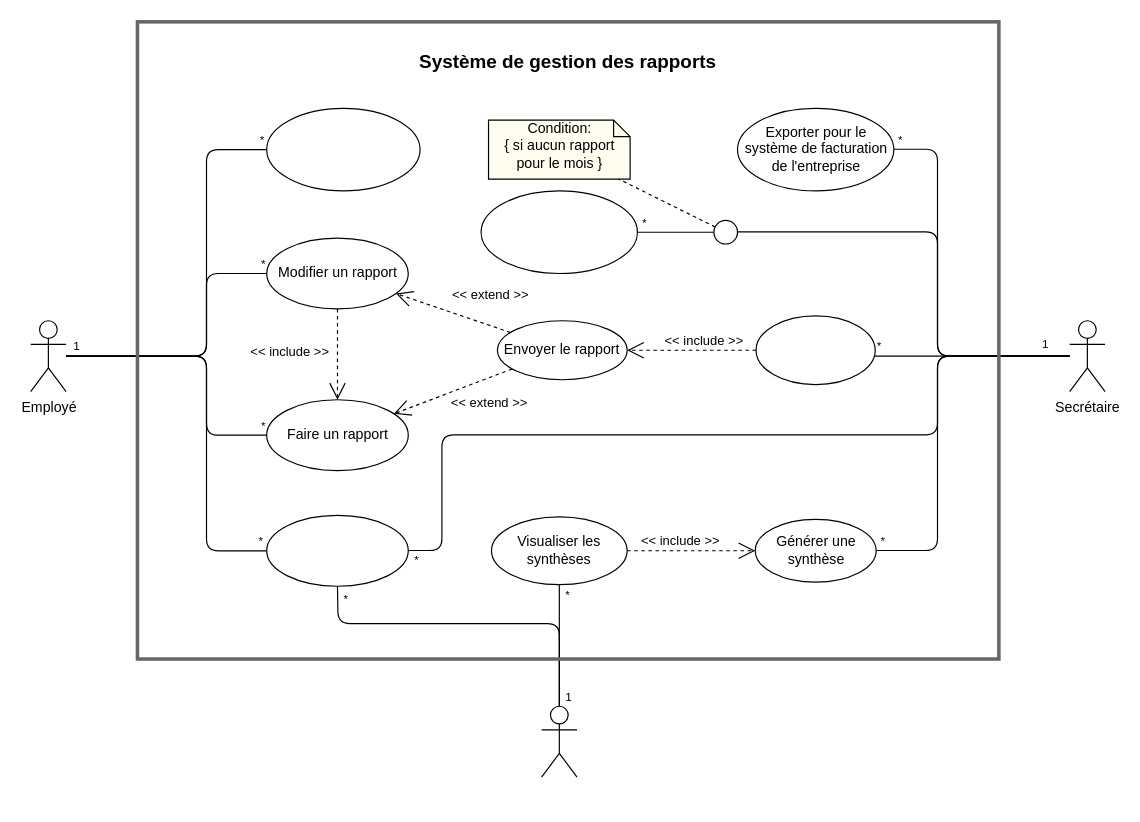
The diagram is 1140 pixels wide and 822 high, and some of its shapes have lost their labels. Each missing label, with the centre of its shape:
"Connexion" belongs at [337,550].
"Manager" belongs at [558,741].
"Rappeler les employés" belongs at [558,232].
"Visualiser les rapports" belongs at [815,350].
"Visualiser ses rapports" belongs at [343,149].
